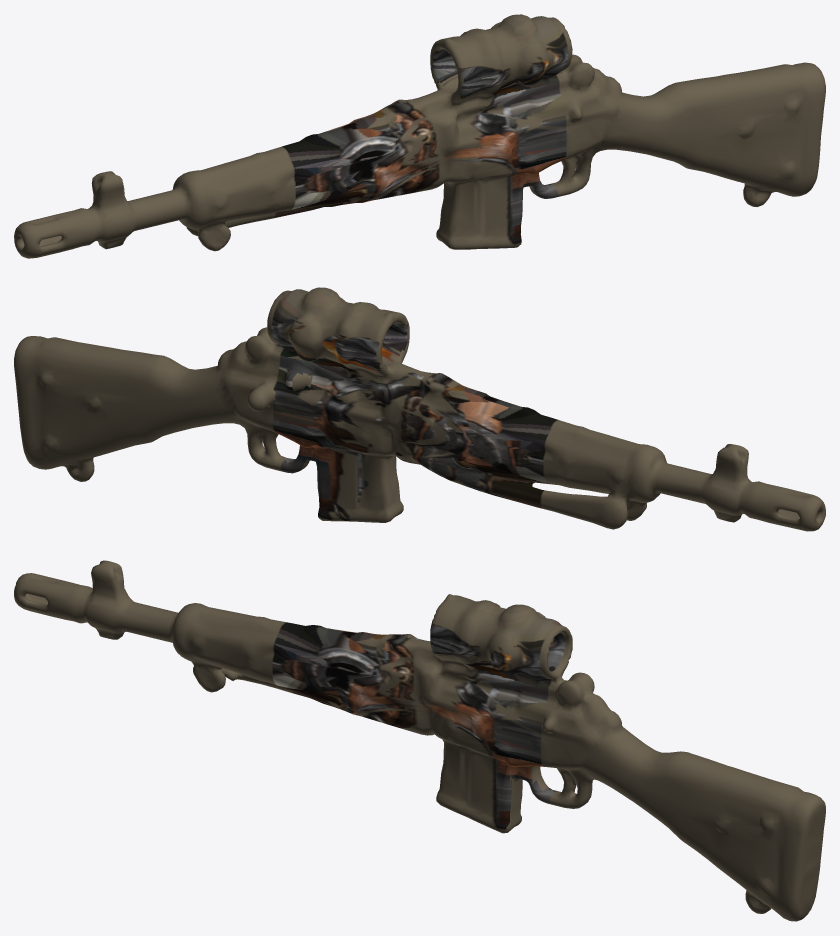
Rendered from warden-rifle-four-view.glb.
3 views of the same model, one above another, from view 1: azimuth 30°, elevation 25°; view 2: azimuth 150°, elevation 25°; view 3: azimuth 330°, elevation 25° (orthographic).
Parts seen in each view (by area): view 1: geometry_0; view 2: geometry_0; view 3: geometry_0.
Boxes of the visible parts, x1,y1,x2,y2 form: geometry_0: (14,14,825,258); geometry_0: (14,287,825,531); geometry_0: (14,560,825,921).
Size of the model in its own units: 1.99 by 0.5925 by 0.2022.
1 material, 1 textured.
